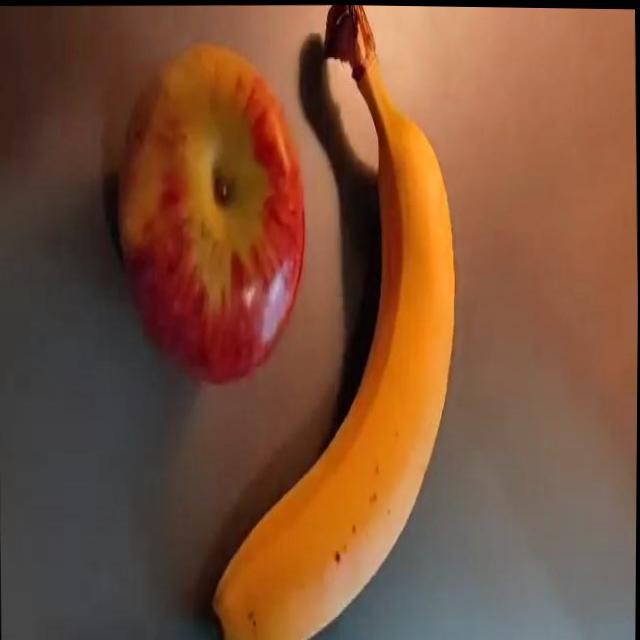Apple: (109, 33, 312, 384)
Banana: (212, 5, 467, 640)
